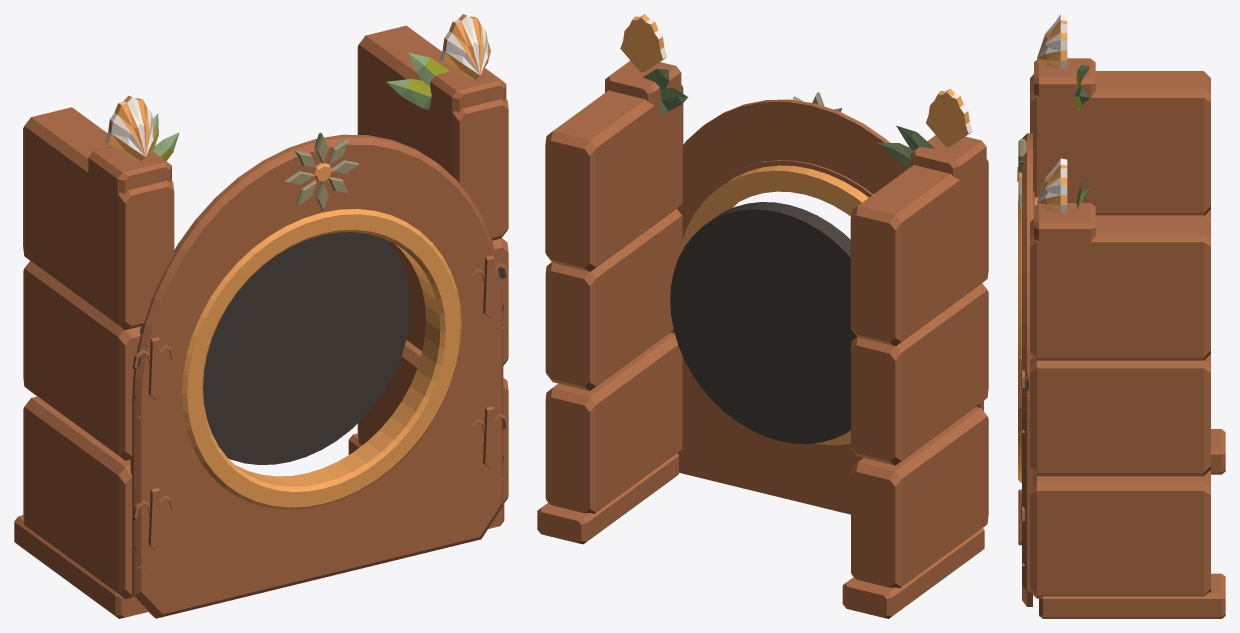
The model's file is portalArch.glb.
3 renders of one model, left to right at view 1: azimuth 30°, elevation 25°; view 2: azimuth 150°, elevation 25°; view 3: azimuth 270°, elevation 25°, orthographic. The views are drawn at different scales.
Visible parts, largest first — view 1: portalArch; view 2: portalArch; view 3: portalArch.
Part boxes in pixels (bbox=[...]): portalArch: bbox=[14, 14, 508, 618]; portalArch: bbox=[537, 14, 988, 618]; portalArch: bbox=[1017, 14, 1225, 618].
Bounding box in the file's own units: 2 × 2.5 × 1.05.
1 material, 1 textured.
